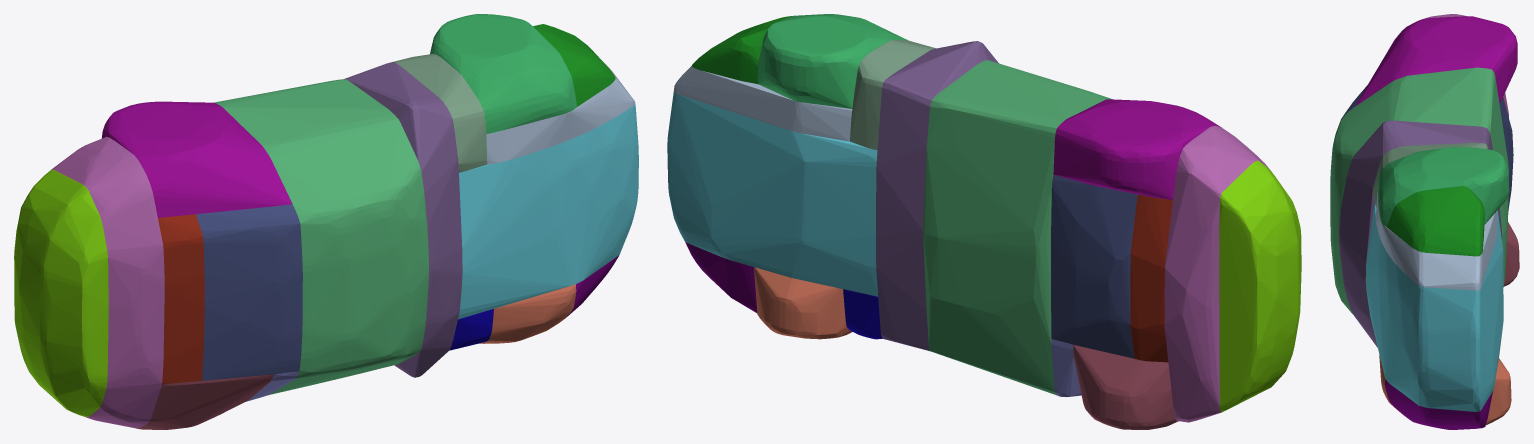
The model's file is coacd_collision.obj.
The picture shows the model from 3 angles, left to right: view 1: azimuth 30°, elevation 25°; view 2: azimuth 150°, elevation 25°; view 3: azimuth 270°, elevation 25°; orthographic projection. The views are drawn at different scales.
Visible parts, largest first — view 1: geometry_3, geometry_2, geometry_4, geometry_7, geometry_16, geometry_14, geometry_1, geometry_10, geometry_15, geometry_6, geometry_0, geometry_13 (+4 smaller); view 2: geometry_3, geometry_2, geometry_4, geometry_1, geometry_7, geometry_16, geometry_14, geometry_10, geometry_13, geometry_15, geometry_6, geometry_9 (+5 smaller); view 3: geometry_2, geometry_3, geometry_1, geometry_14, geometry_10, geometry_8, geometry_6, geometry_11, geometry_9, geometry_0, geometry_16, geometry_13.
Boxes of the visible parts, box(x1,y1,x2,y2) form: geometry_3: box(214, 79, 428, 394); geometry_2: box(458, 103, 638, 319); geometry_4: box(14, 169, 108, 416); geometry_7: box(51, 136, 164, 428); geometry_16: box(196, 204, 302, 380); geometry_14: box(101, 101, 292, 217); geometry_1: box(344, 62, 462, 377); geometry_10: box(430, 14, 576, 134); geometry_15: box(158, 214, 204, 383); geometry_6: box(486, 62, 635, 164); geometry_0: box(393, 54, 486, 172); geometry_13: box(136, 374, 273, 429); geometry_3: box(923, 60, 1111, 394); geometry_2: box(667, 92, 878, 296); geometry_4: box(1219, 160, 1301, 411); geometry_1: box(876, 41, 998, 351); geometry_7: box(1164, 126, 1268, 422); geometry_16: box(1051, 174, 1137, 358); geometry_14: box(1053, 99, 1221, 199); geometry_10: box(758, 14, 908, 108); geometry_13: box(1073, 344, 1178, 429); geometry_15: box(1130, 194, 1172, 362); geometry_6: box(673, 66, 852, 141); geometry_9: box(754, 267, 852, 339); geometry_2: box(1365, 202, 1503, 411); geometry_3: box(1330, 67, 1508, 313); geometry_1: box(1339, 120, 1502, 347); geometry_14: box(1355, 16, 1517, 106); geometry_10: box(1377, 147, 1509, 226); geometry_8: box(1387, 186, 1484, 256); geometry_6: box(1375, 187, 1497, 290); geometry_11: box(1385, 379, 1493, 429); geometry_9: box(1379, 355, 1511, 424); geometry_0: box(1372, 143, 1488, 207); geometry_16: box(1341, 85, 1513, 210); geometry_13: box(1503, 222, 1519, 286).
Bounding box in the file's own units: 106 × 49 × 33.19.
